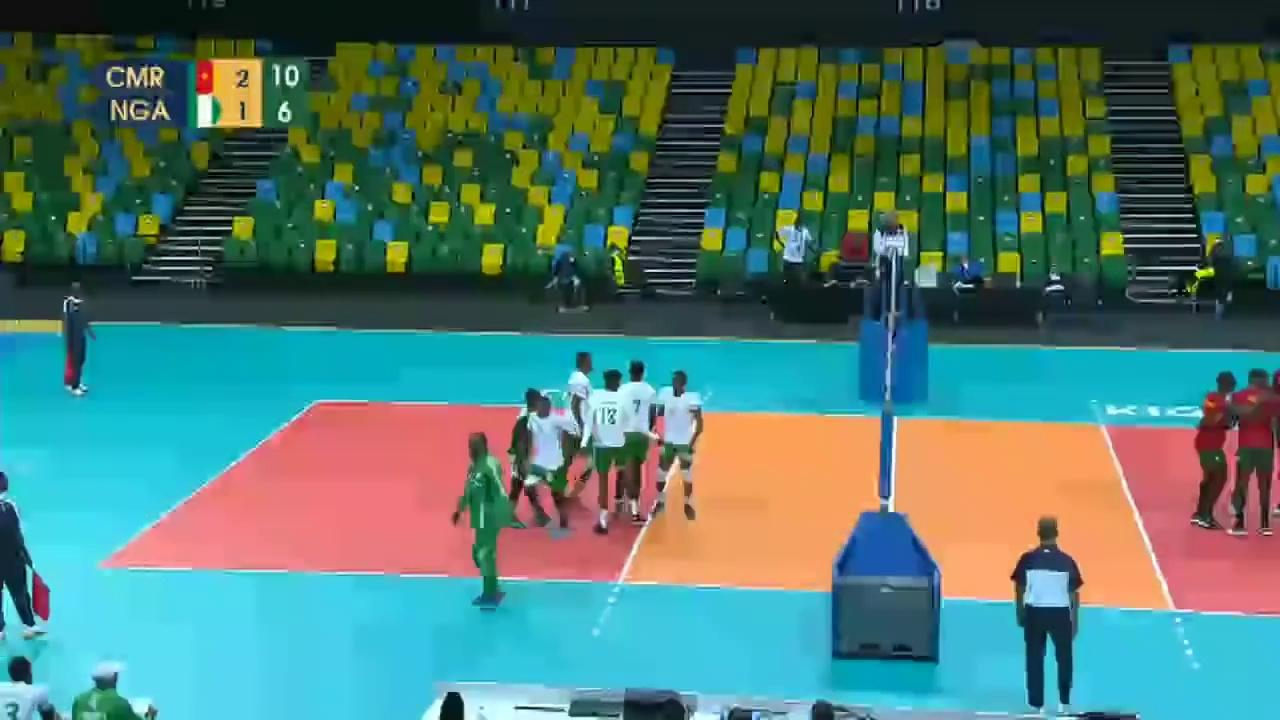player: (593, 370, 649, 539), (1226, 366, 1277, 534), (1186, 359, 1233, 539), (522, 396, 575, 541), (659, 369, 706, 526), (560, 346, 606, 505), (501, 387, 551, 524), (616, 361, 657, 505)
refree: (1010, 521, 1088, 711), (0, 469, 60, 642), (871, 203, 911, 319), (62, 281, 95, 393)
